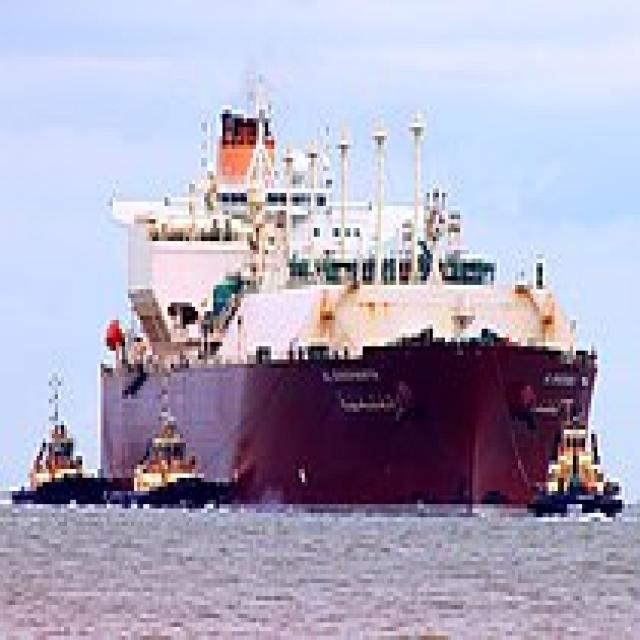Tanker: (94, 101, 592, 508)
